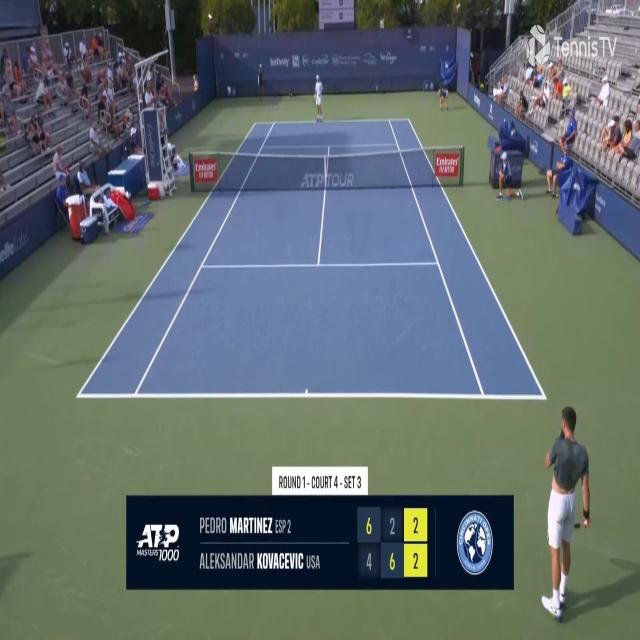tennis-player: (542, 402, 593, 628), (312, 74, 325, 122)
